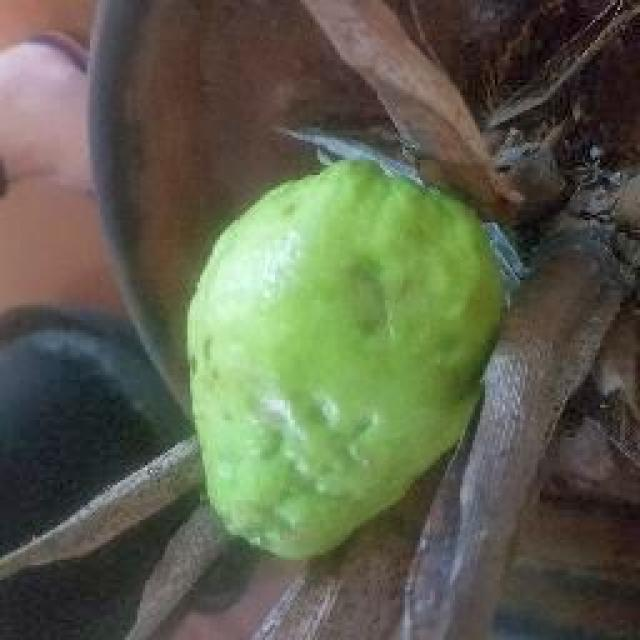Good_Guava: (180, 155, 510, 562)
